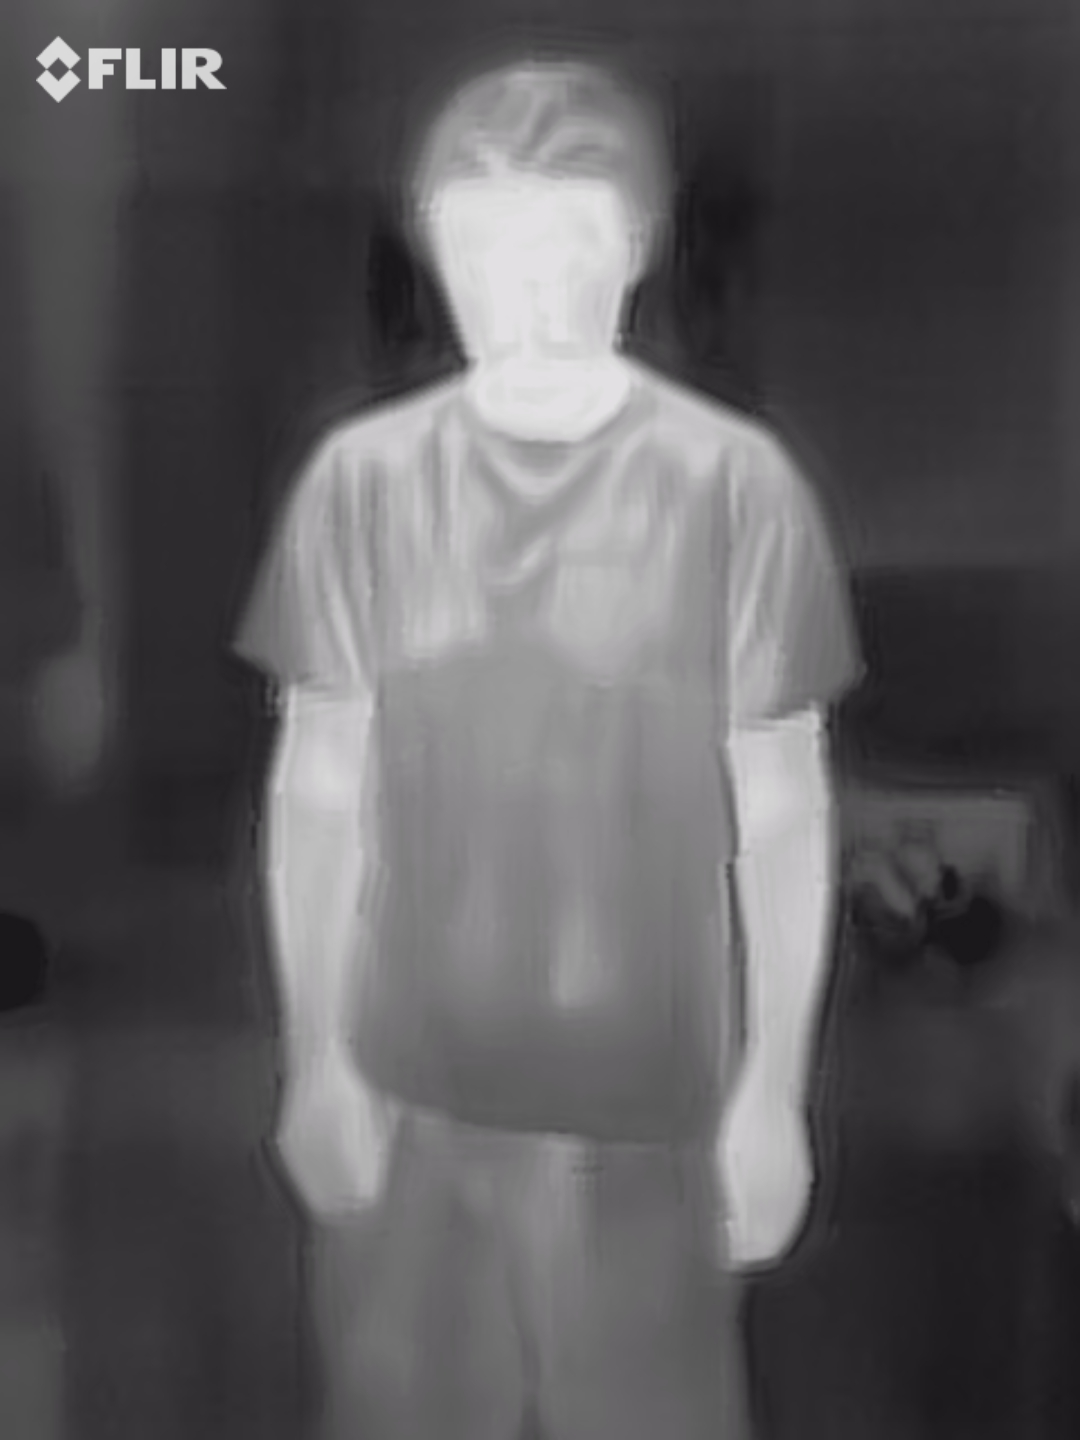head: (405, 56, 658, 401)
